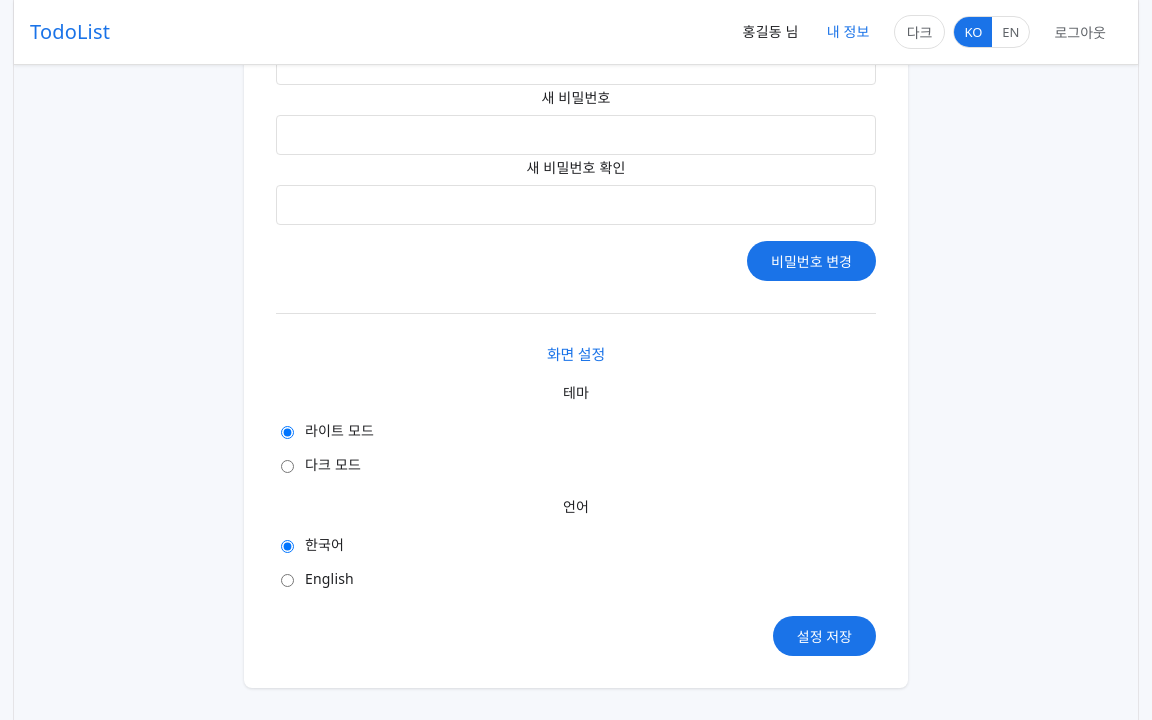
Test case: ProfilePage — 화면 설정(테마) › 설정 저장 실패 시 에러 메시지를 표시한다
(page scrolled)
Click the button "설정 저장" at {"x": 824, "y": 636}, box [773,616,876,656]
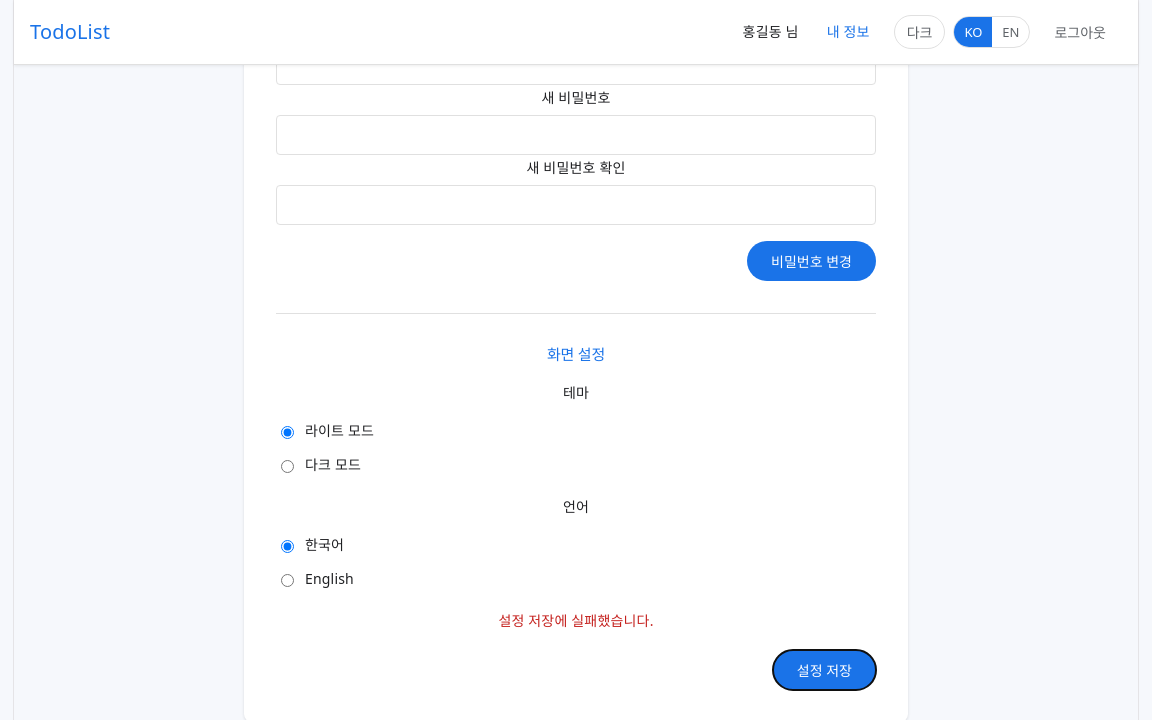
Now the text "설정 저장에 실패했습니다." is shown, box [498,611,654,630]
